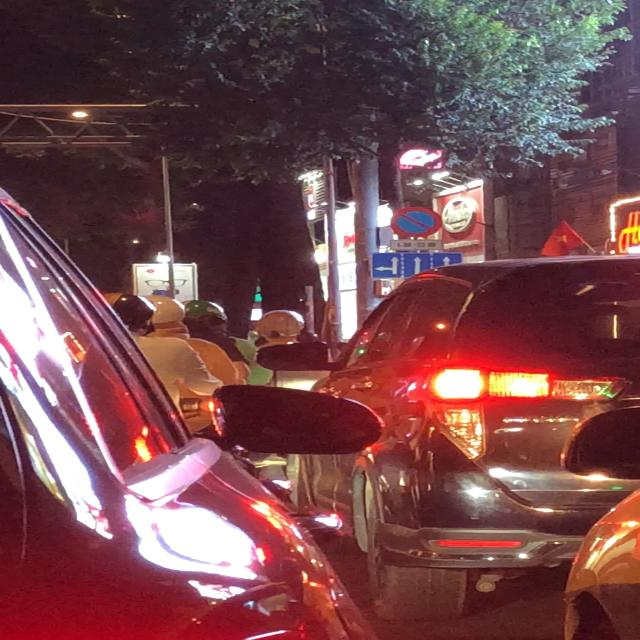Bien bao cam do xe: (387, 205, 448, 238)
